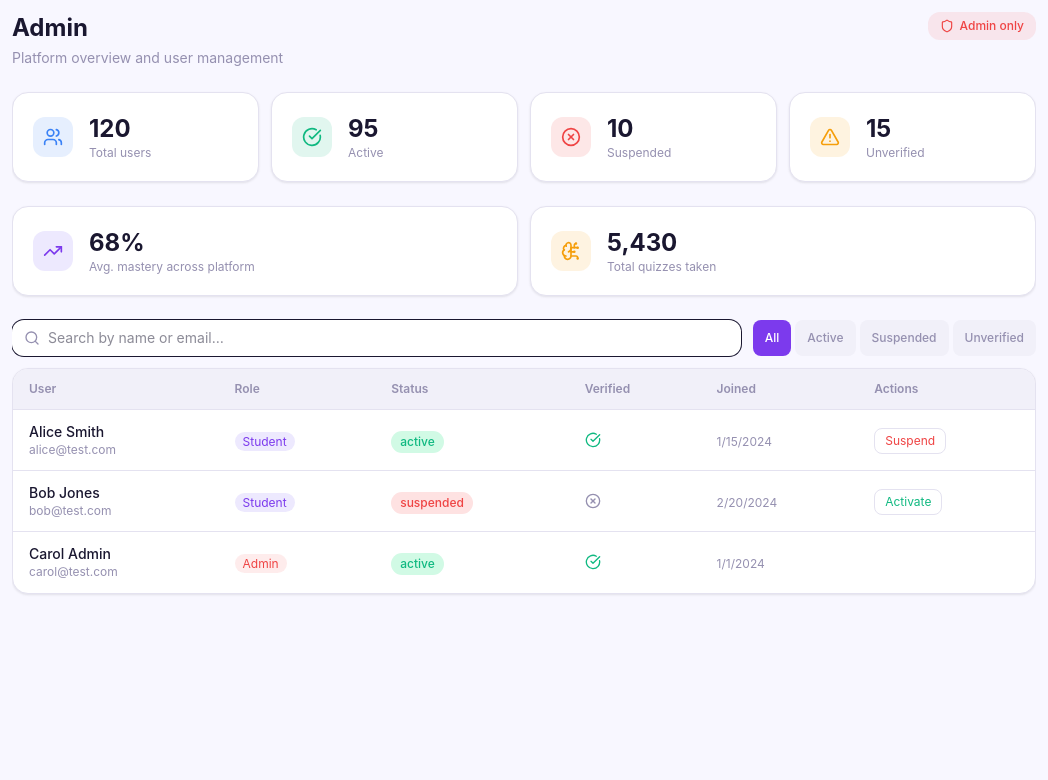
AdminPage › filters users by search on Enter
Expected: the text "Alice Smith" is shown, [29,423,104,440]
Type "alice" into the field with placeholder "Search by name or email…" at {"x": 376, "y": 338}, box [12,320,741,356]
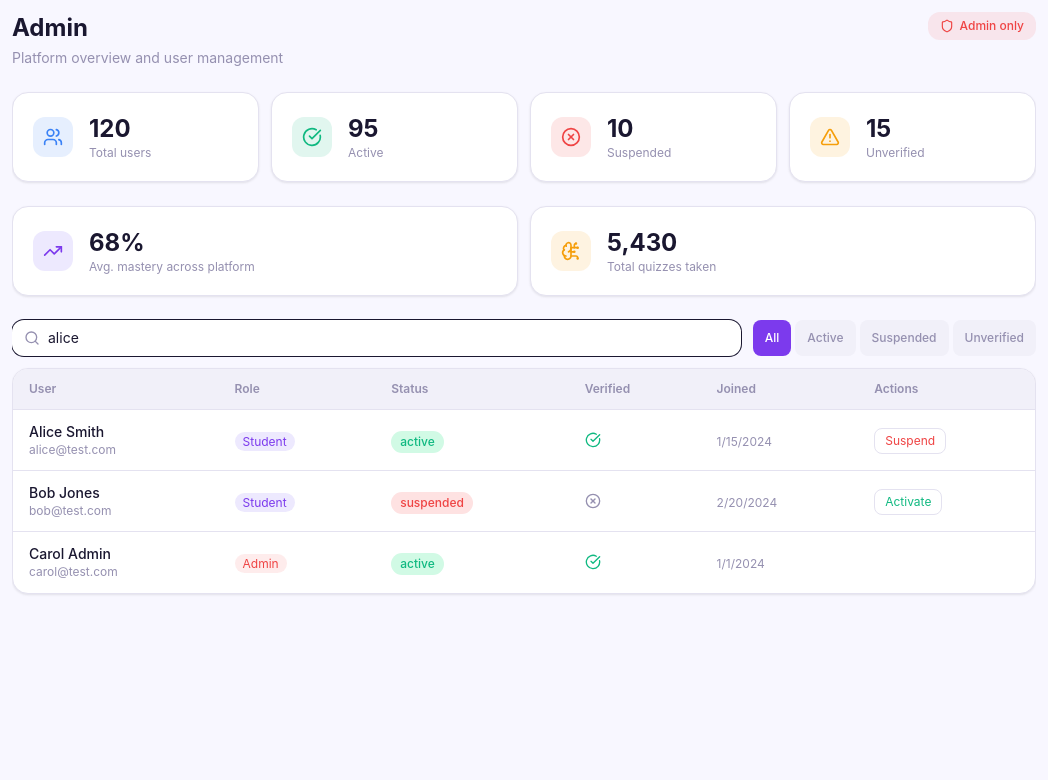
Press Enter in the field with placeholder "Search by name or email…", box [12,320,741,356]
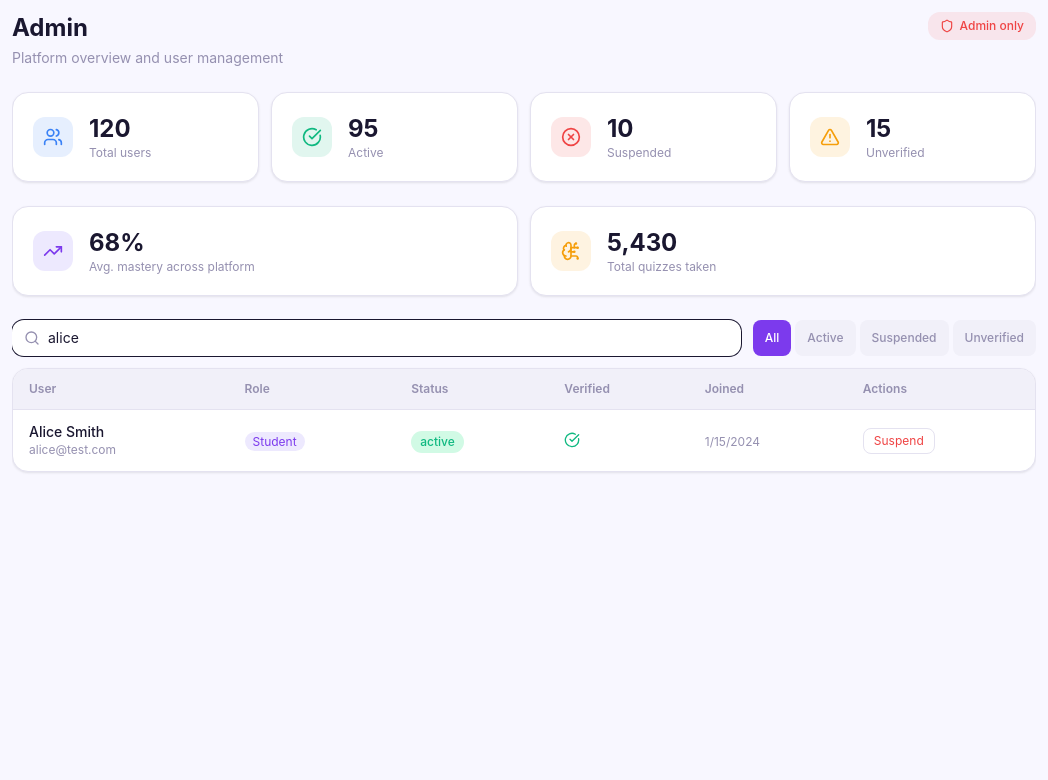
Expected: the text "Alice Smith" is shown, [29,423,104,440]
Expected: the text "Bob Jones" is gone
